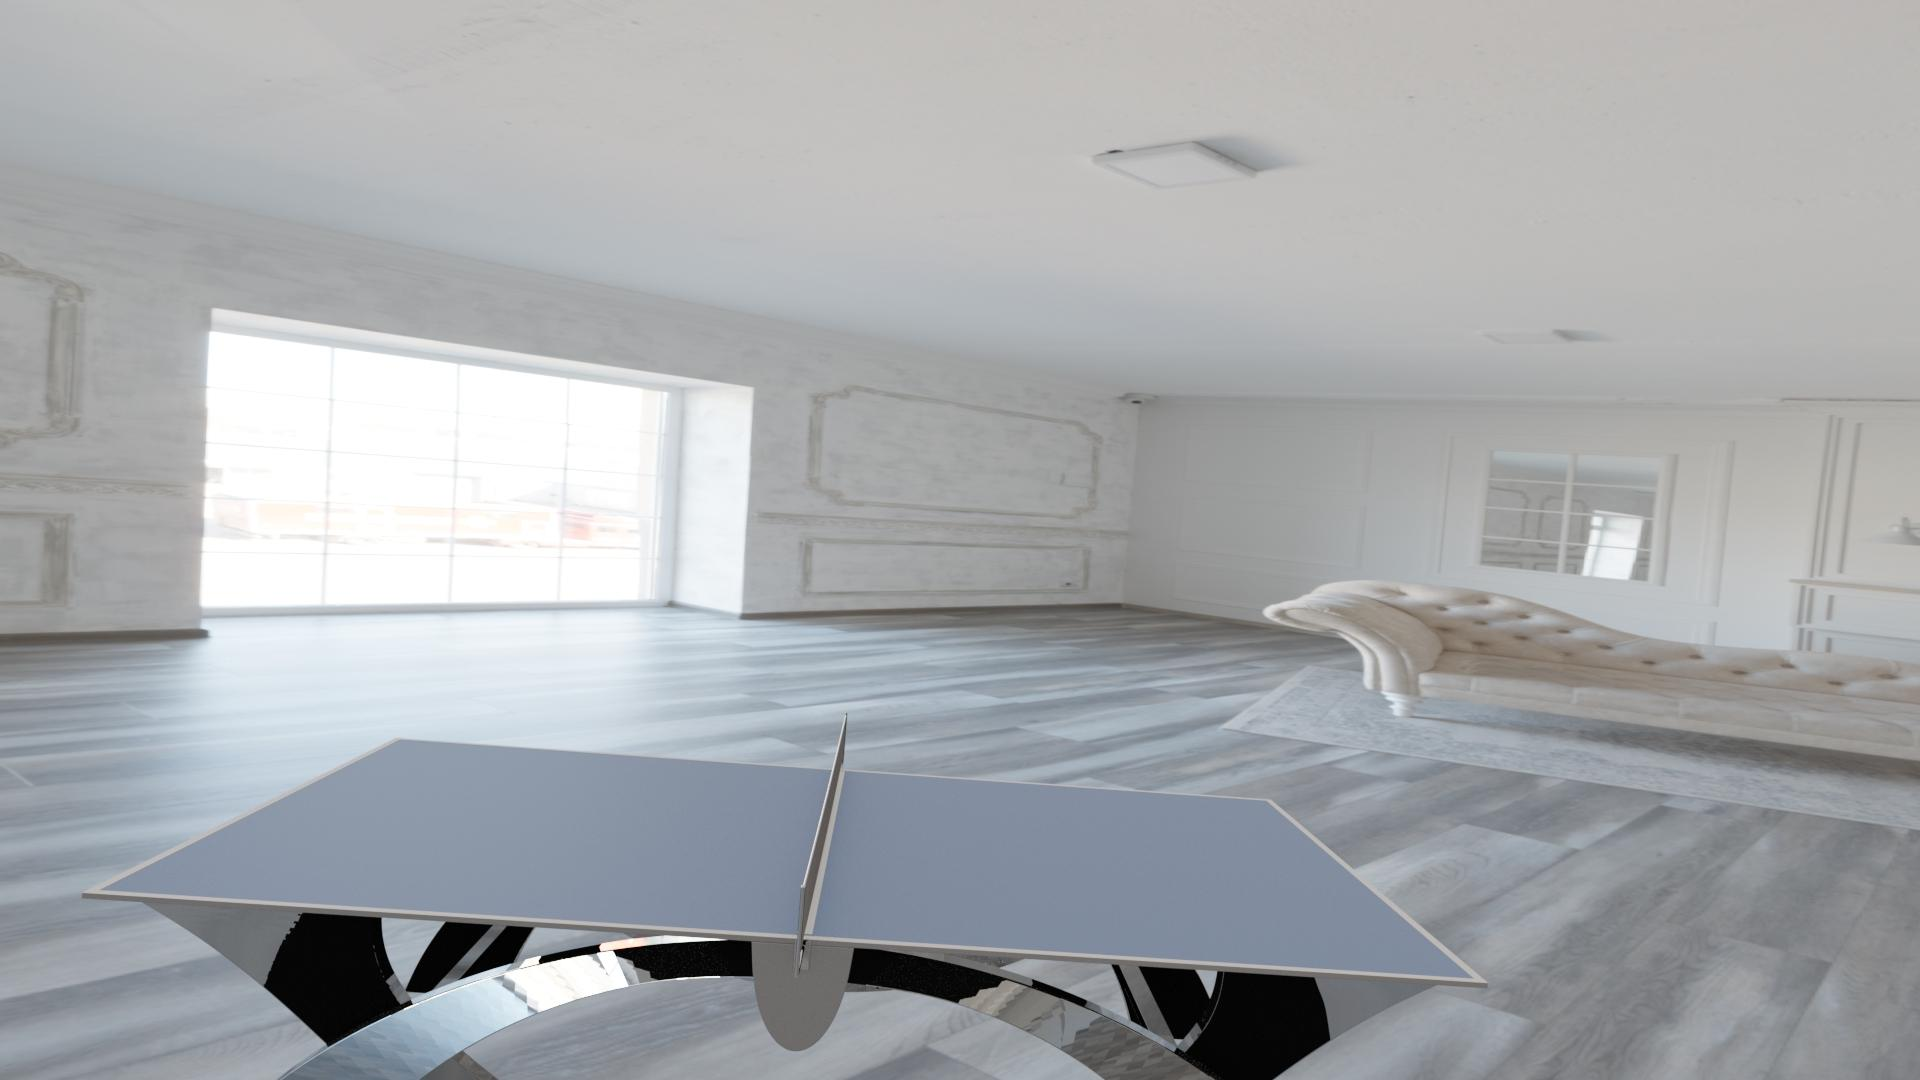table: (99, 740, 1474, 978)
